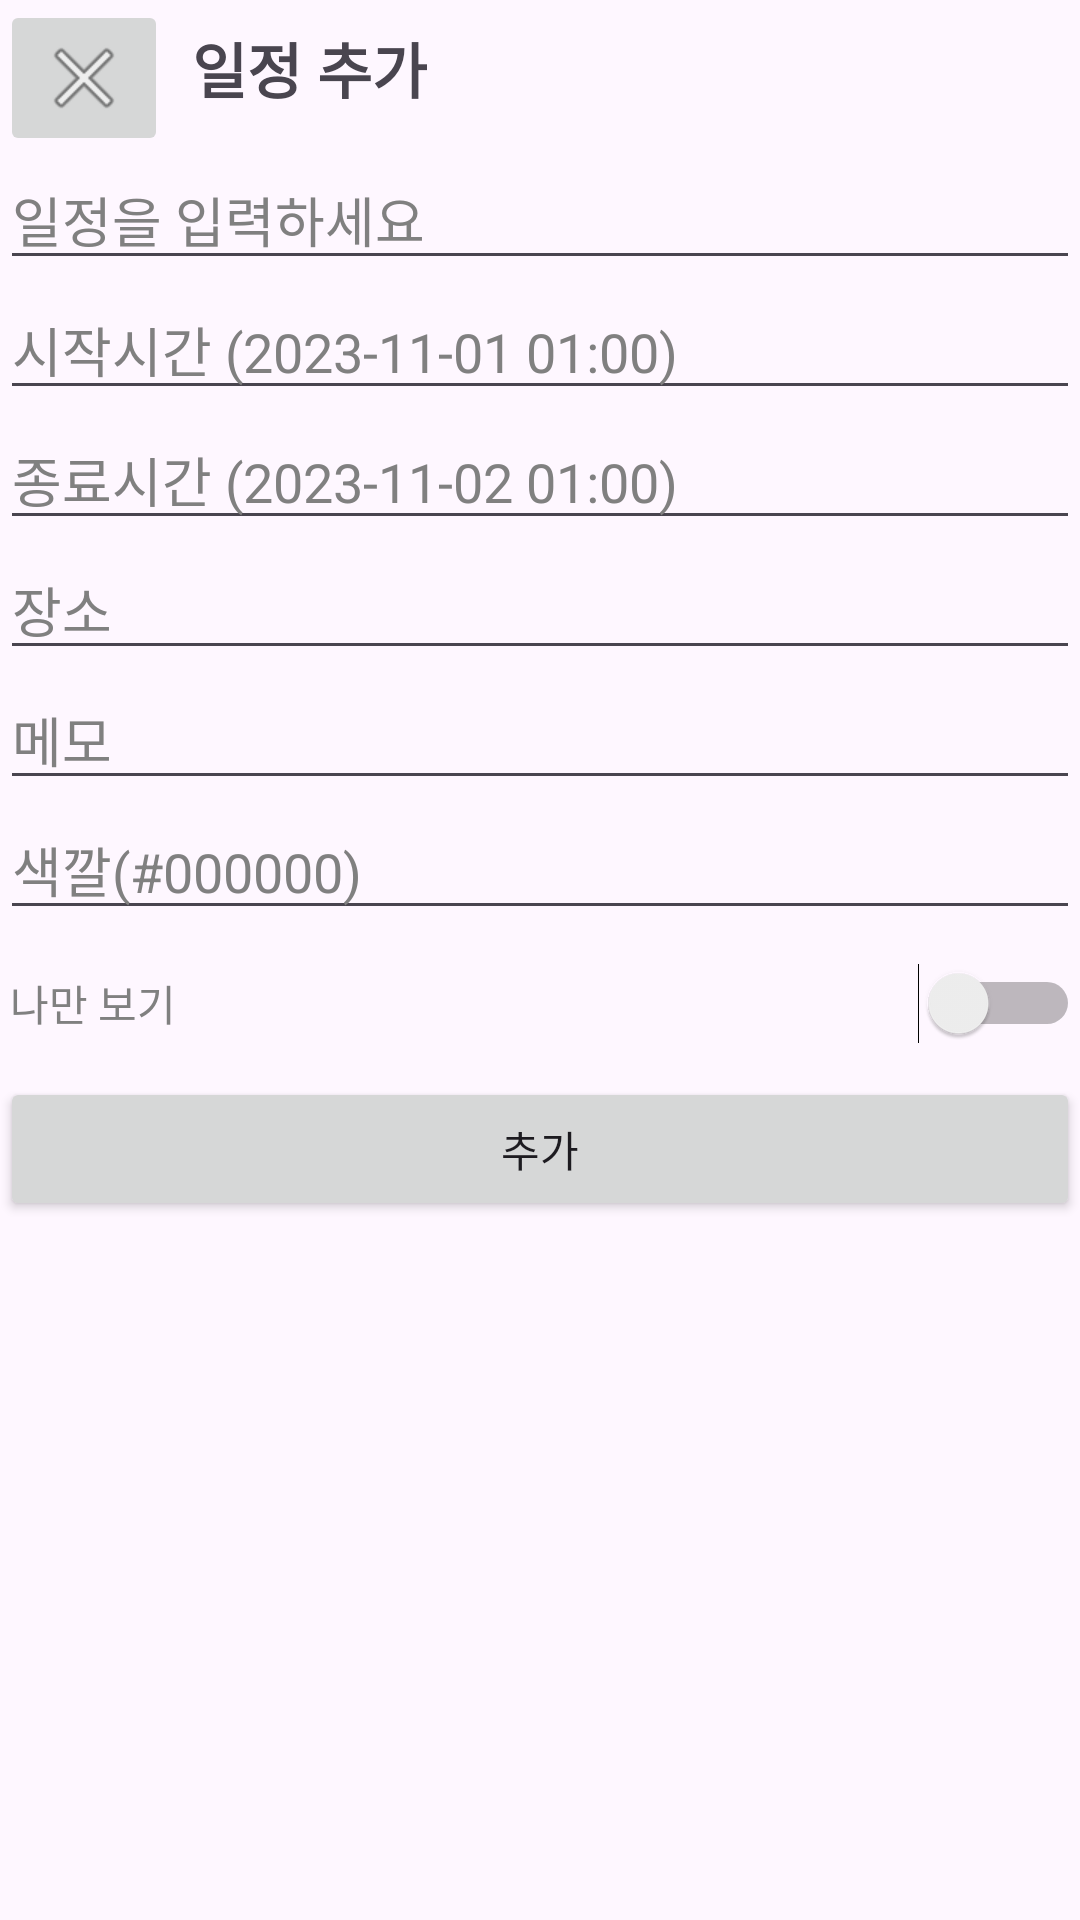

Screen size 1080x1920. Icon name, then its box in pixels as [left=x1, top=y1, right=x2, bottom=y2]:
close clear cancel: [left=12, top=18, right=156, bottom=138]
